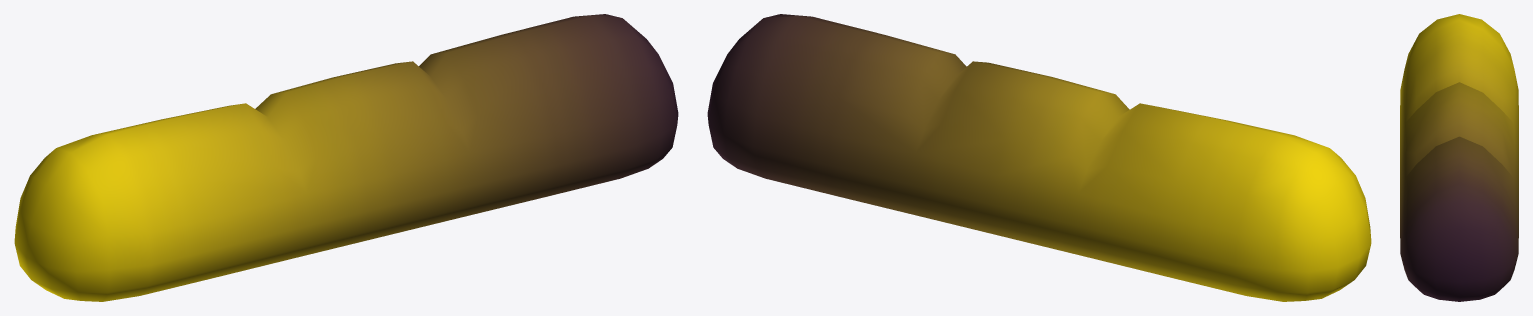
File: candy_glass_27.fbx
The picture shows the model from 3 angles, left to right: view 1: azimuth 30°, elevation 25°; view 2: azimuth 150°, elevation 25°; view 3: azimuth 270°, elevation 25°; orthographic projection. The views are drawn at different scales.
Visible parts, largest first — view 1: c_g_27; view 2: c_g_27; view 3: c_g_27.
Part boxes in pixels (x1,y1,x2,y2): c_g_27: (14,14,678,301); c_g_27: (707,14,1371,301); c_g_27: (1400,14,1518,301).
Bounding box in the file's own units: 203 × 45.62 × 46.77.
